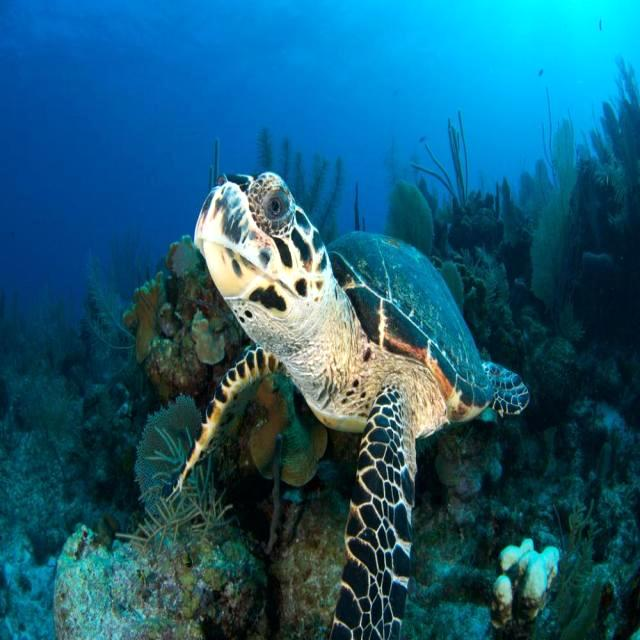Sea turtle: (163, 169, 529, 636)
